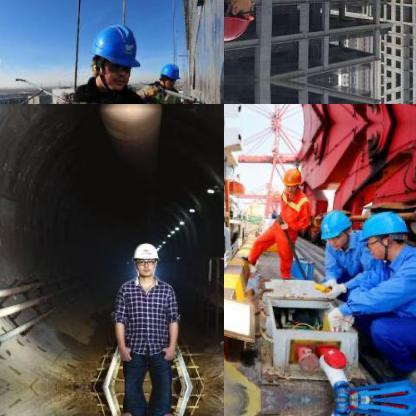Helmet: (92, 17, 142, 94), (356, 205, 410, 259), (224, 0, 256, 40), (320, 207, 352, 246), (130, 238, 158, 276), (279, 164, 303, 196), (156, 57, 180, 86)
